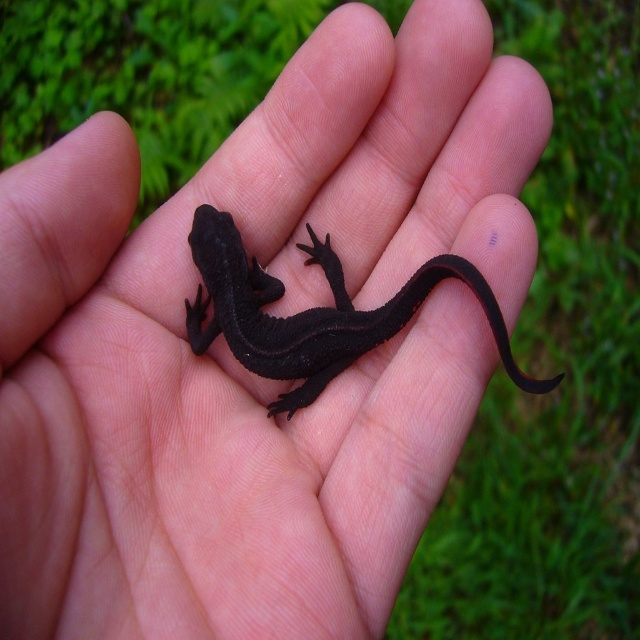Lizard: (187, 204, 565, 415)
